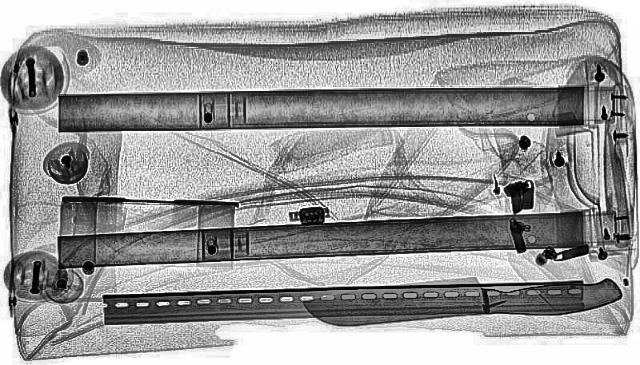Knife: (298, 270, 624, 328)
